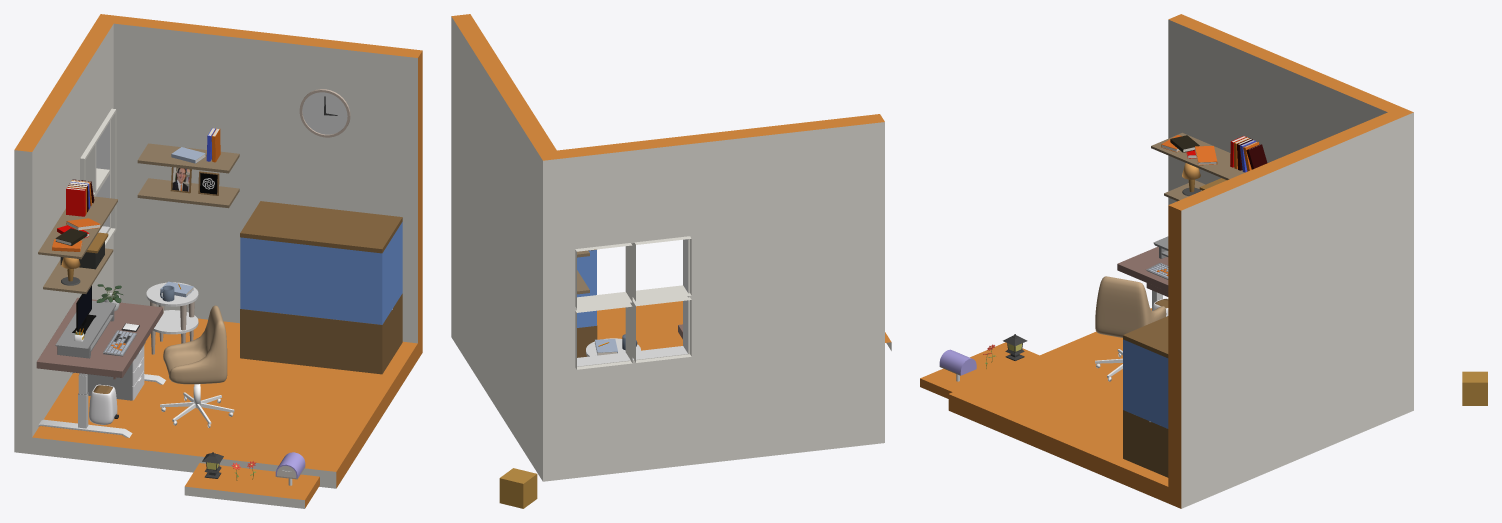
Rendered from house 5.glb.
3 renders of one model, left to right at view 1: azimuth 30°, elevation 25°; view 2: azimuth 150°, elevation 25°; view 3: azimuth 270°, elevation 25°, orthographic. The views are drawn at different scales.
Visible parts, largest first — view 1: Room, fish tank, Table Base, Shelf 1, Shelf 2, Garden Floor, Chair seat, Desk Content, Stool, Clock, Chair, Mailbox (+1 smaller); view 2: Room, fish tank, cubicle, Stool; view 3: Room, fish tank, Shelf 1, Chair seat, Garden Floor, Table Base, cubicle, Mailbox.
Part boxes in pixels (x1,y1,x2,y2): Room: (14, 14, 422, 488); fish tank: (240, 201, 402, 374); Table Base: (36, 297, 165, 437); Shelf 1: (38, 179, 117, 293); Shelf 2: (137, 128, 239, 208); Garden Floor: (184, 463, 319, 508); Chair seat: (163, 305, 227, 384); Desk Content: (55, 284, 139, 358); Stool: (146, 281, 198, 354); Clock: (299, 89, 350, 137); Chair: (160, 384, 234, 427); Mailbox: (275, 452, 305, 485); Room: (451, 14, 884, 481); fish tank: (577, 249, 597, 357); cubicle: (499, 468, 537, 508); Stool: (586, 334, 640, 356); Room: (948, 14, 1413, 508); fish tank: (1123, 316, 1168, 477); Shelf 1: (1151, 132, 1267, 201); Chair seat: (1095, 276, 1166, 337); Garden Floor: (920, 342, 1039, 398); Table Base: (1117, 246, 1168, 316); cubicle: (1462, 371, 1487, 405); Mailbox: (939, 349, 976, 381).
Bounding box in the file's own units: 23.29 × 16.47 × 28.41.
Materials: 80 (3 with a texture image).
